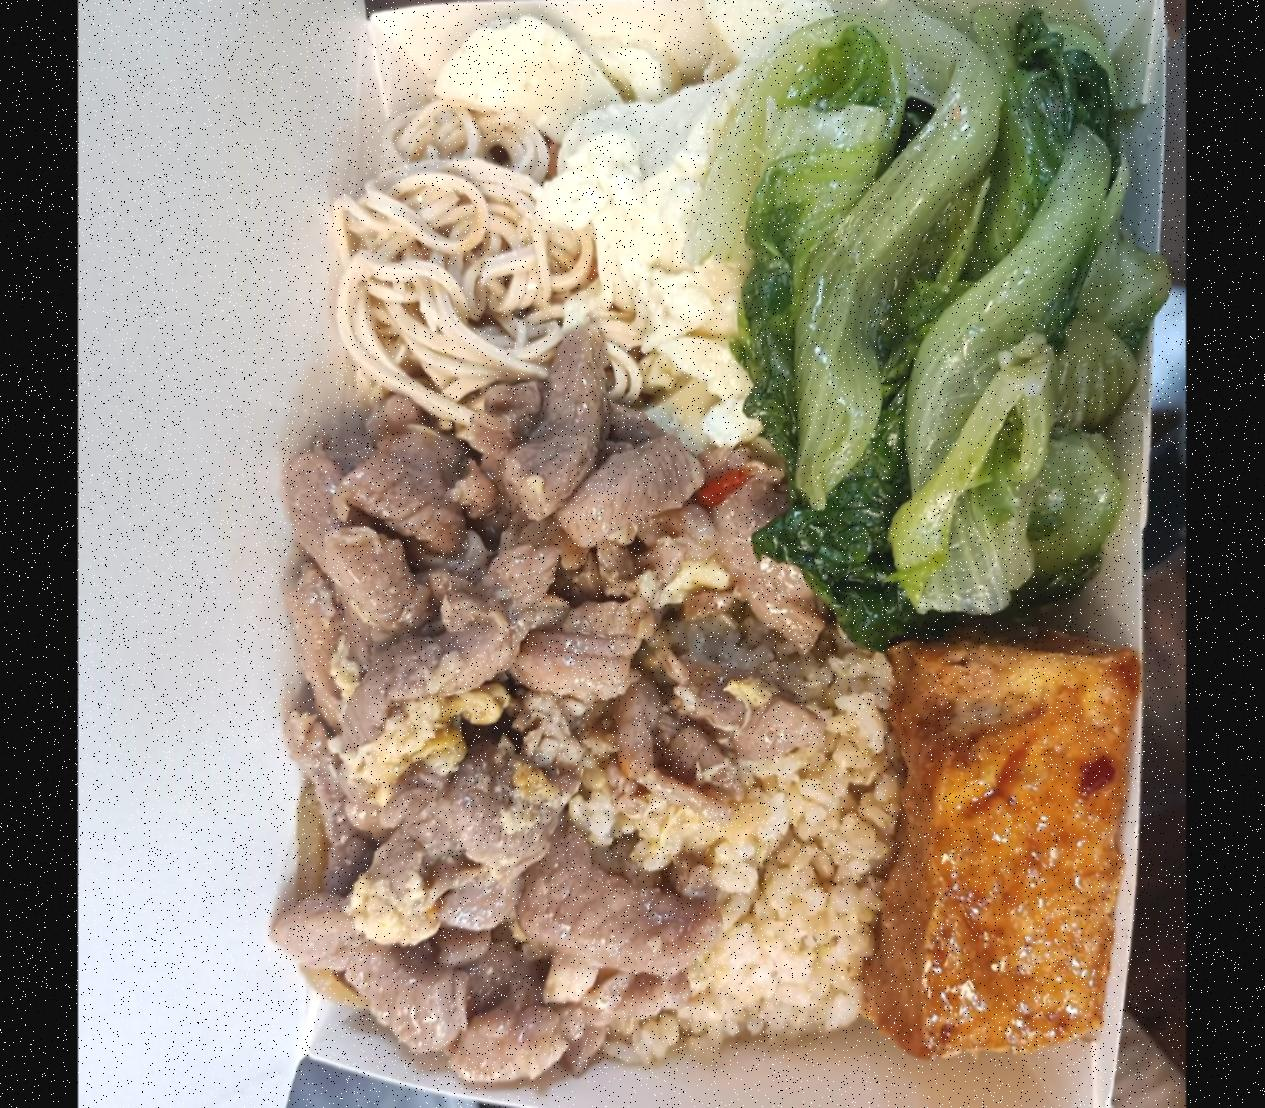big grilled chicken leg: (244, 0, 1171, 1108)
box: (313, 467, 905, 1049)
braised fish fillet: (771, 11, 1139, 587), (875, 607, 1135, 1074), (316, 90, 580, 413), (564, 9, 771, 397)
braised pork: (292, 421, 758, 1031)
